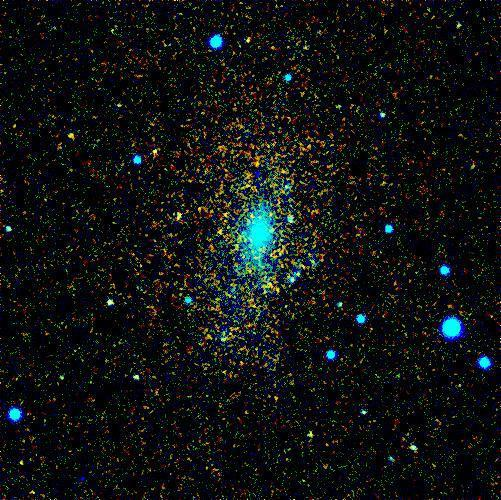star: (56, 122, 86, 152)
